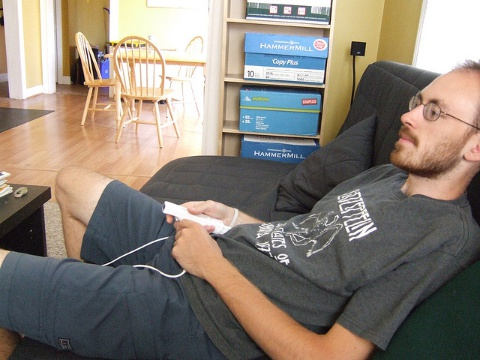hand: (172, 219, 221, 277)
